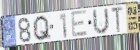1: (59, 13, 68, 40)
8: (18, 16, 32, 43)
E: (70, 10, 89, 40)
Q: (32, 15, 52, 42)
T: (111, 6, 125, 34)
U: (92, 7, 110, 36)
